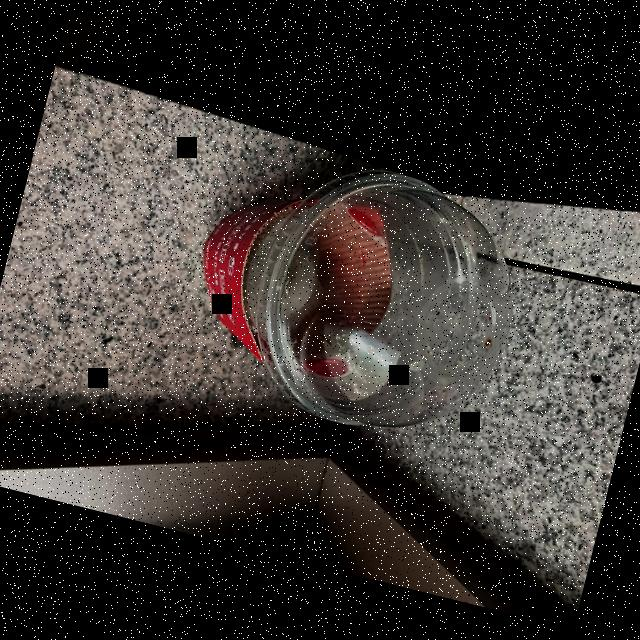plastic_cup_lid: (166, 128, 536, 462), (232, 138, 540, 462)
